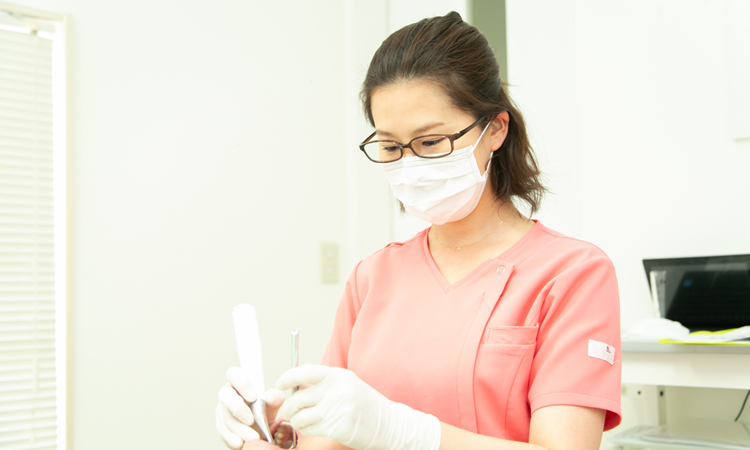mask: (382, 147, 492, 226)
